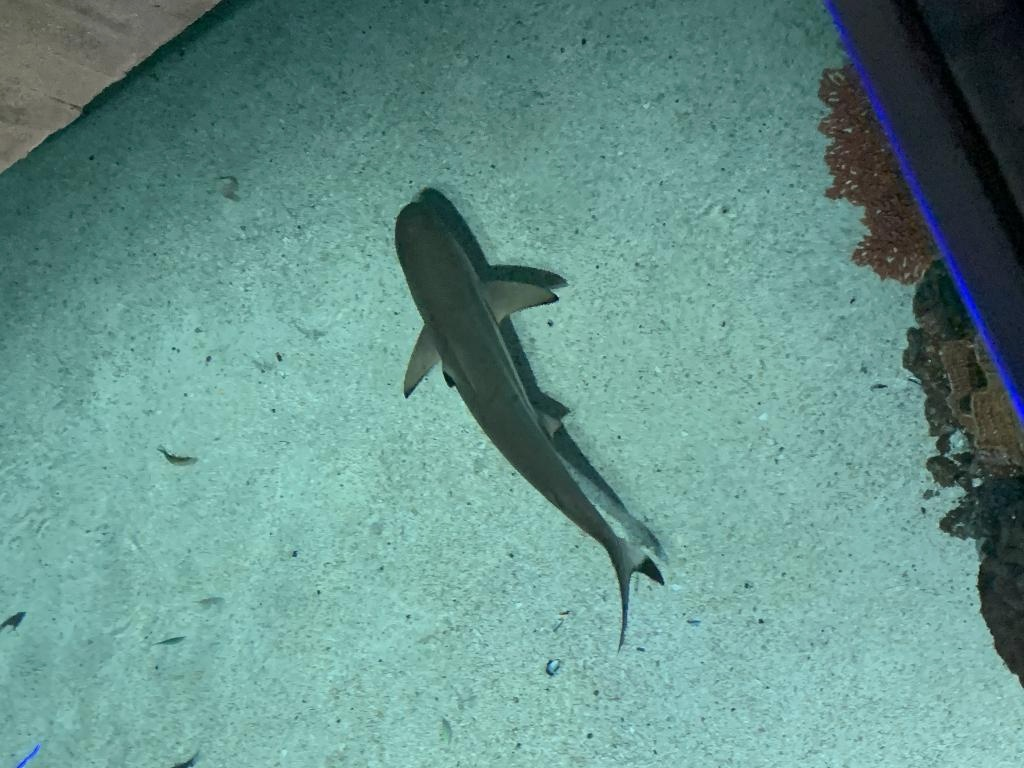shark: (394, 198, 664, 654)
